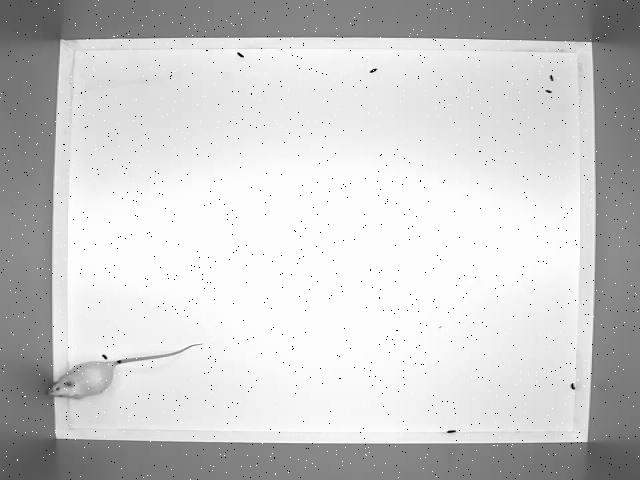Tikus: (44, 339, 208, 403)
